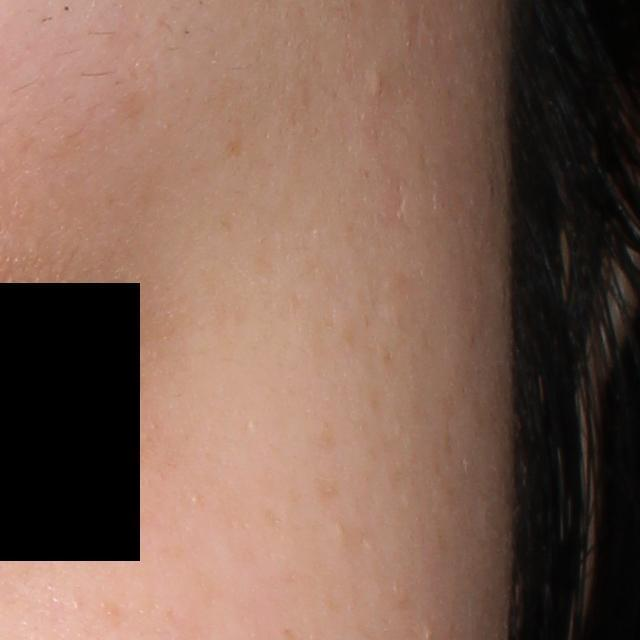comedo: (367, 68, 385, 98)
melasma: (311, 476, 345, 510), (308, 424, 336, 450)
